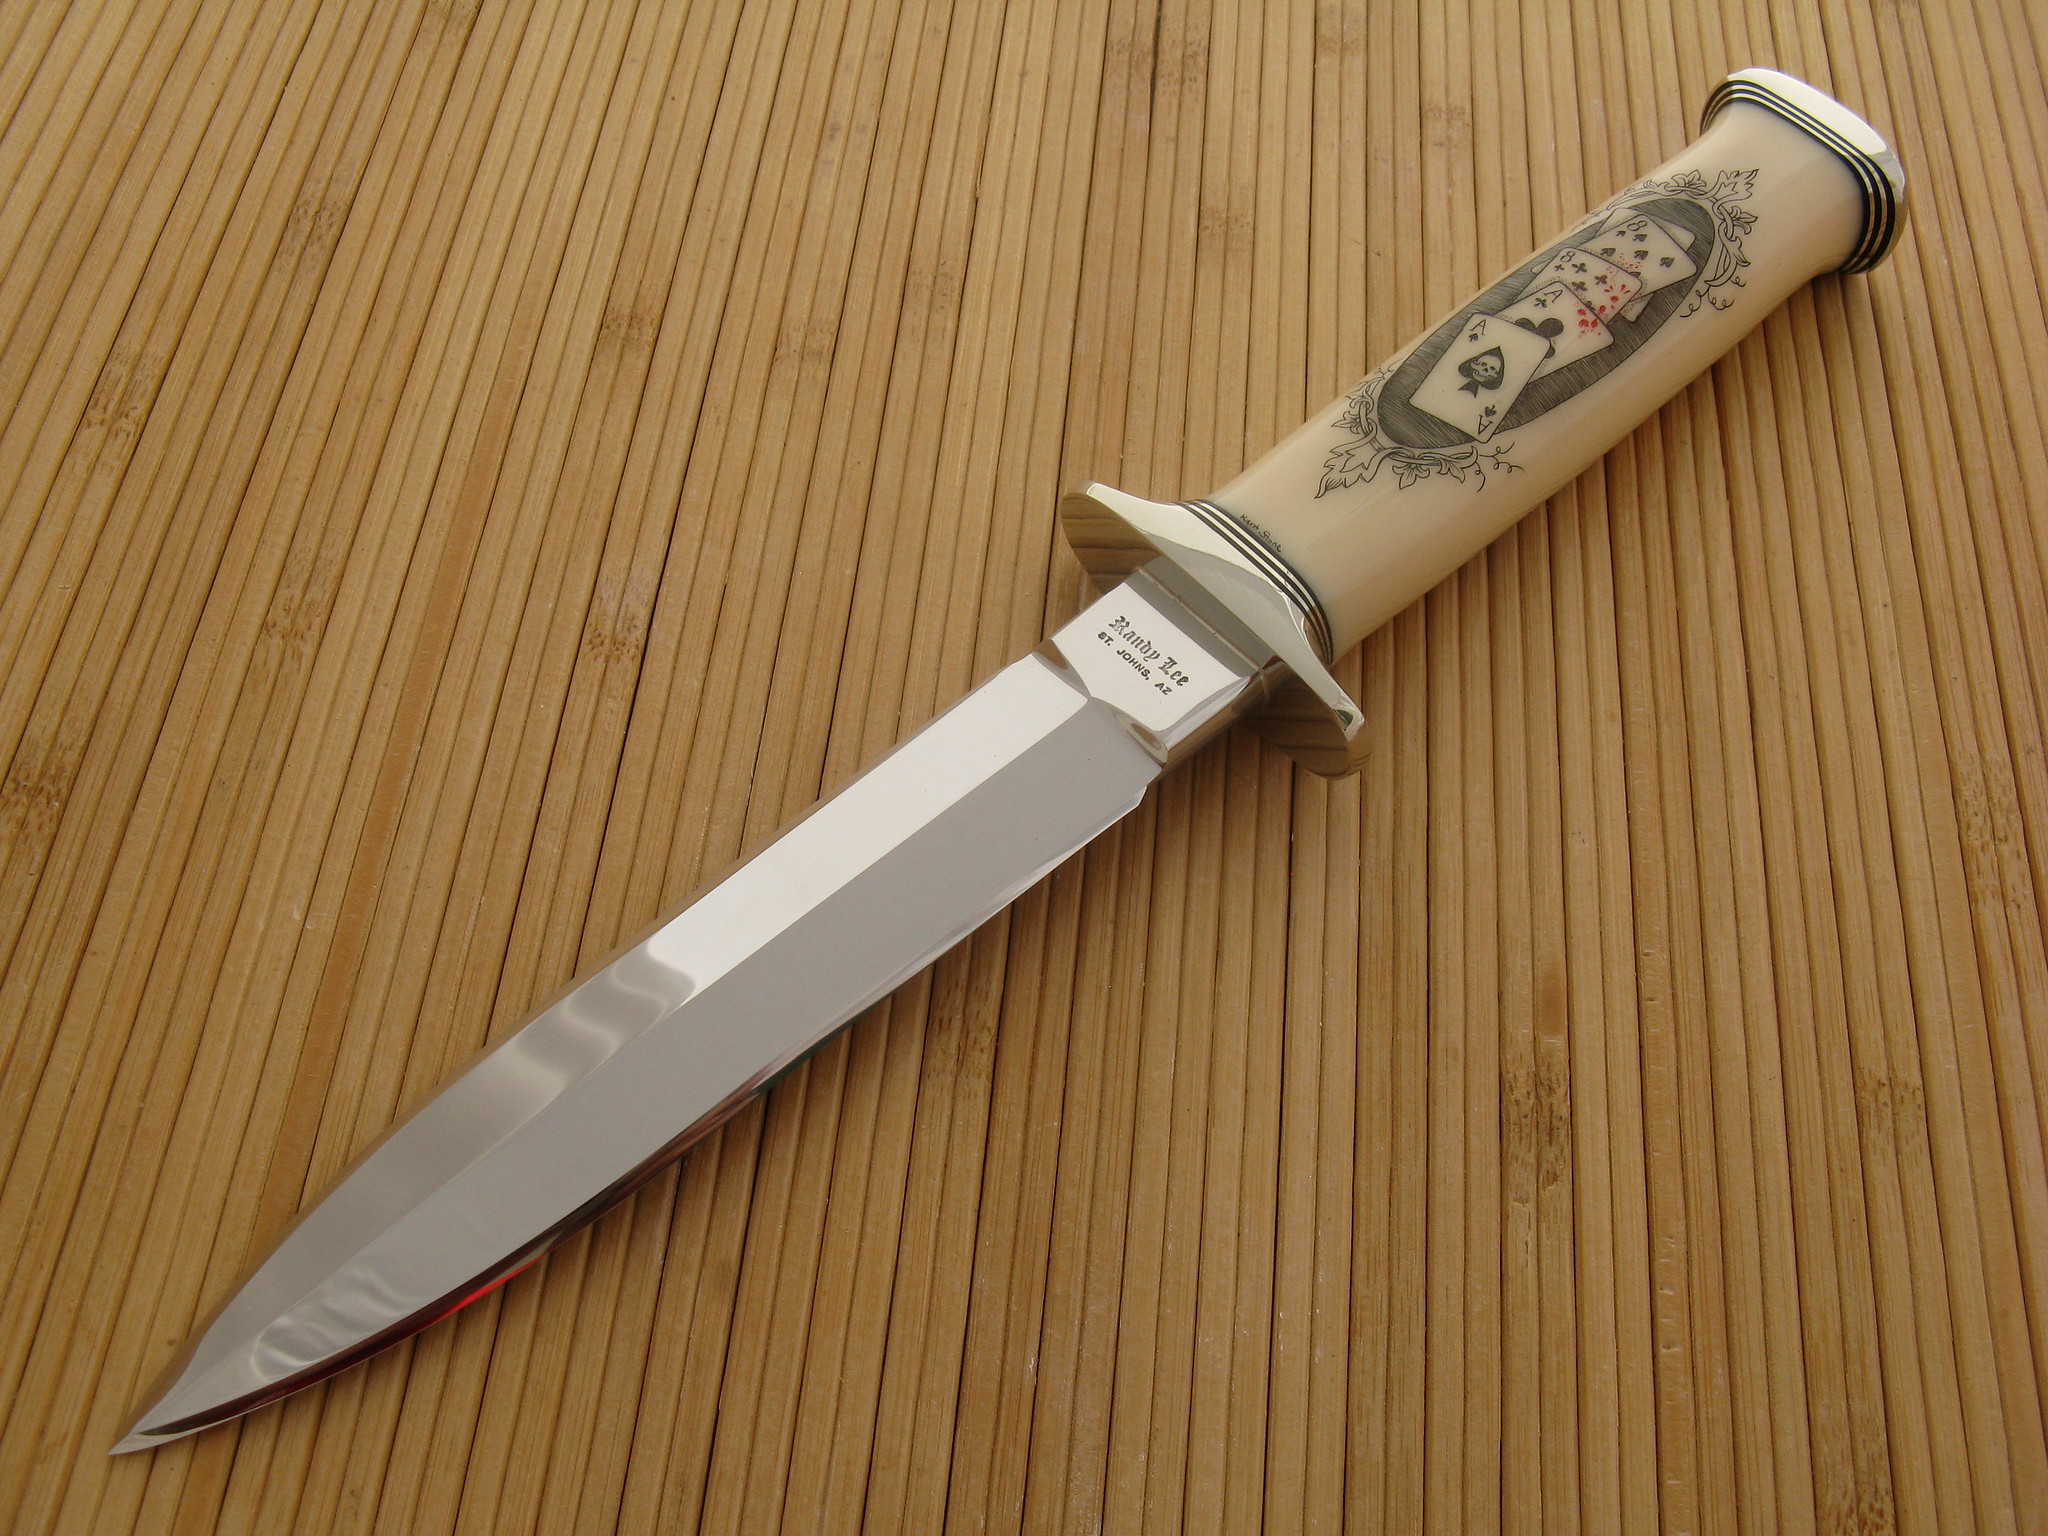knife: (89, 69, 1954, 1462)
